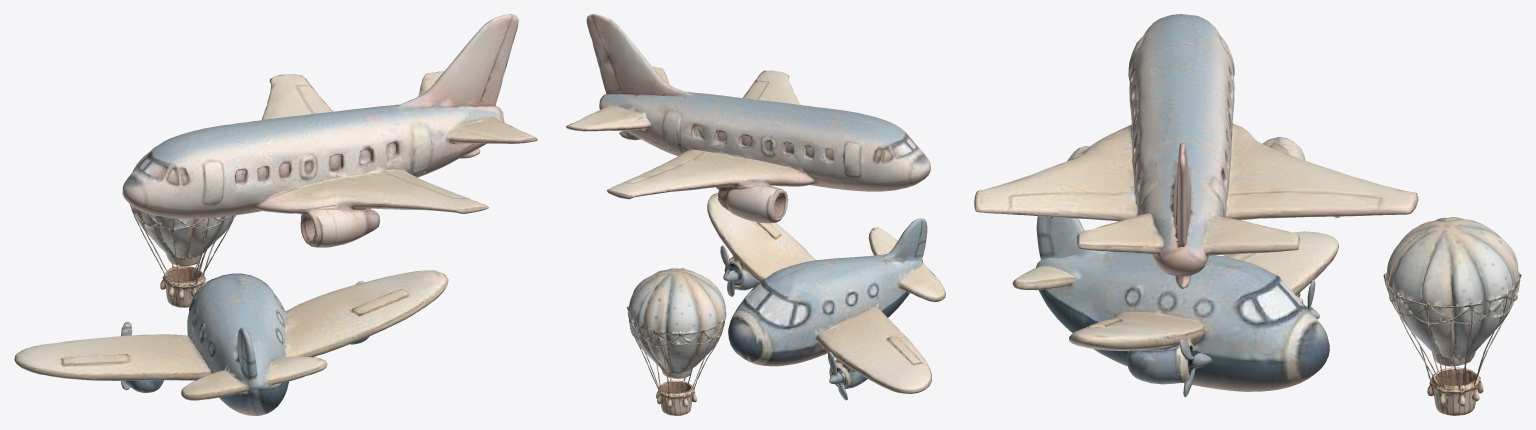
3 renders of one model, left to right at view 1: azimuth 30°, elevation 25°; view 2: azimuth 150°, elevation 25°; view 3: azimuth 270°, elevation 25°, orthographic. The views are drawn at different scales.
Visible parts, largest first — view 1: Mesh 2, Mesh 1, Mesh 3; view 2: Mesh 2, Mesh 1, Mesh 3; view 3: Mesh 2, Mesh 1, Mesh 3.
Boxes of the visible parts, x1,y1,x2,y2 form: Mesh 2: (122,14,537,247); Mesh 1: (14,270,448,415); Mesh 3: (130,152,236,307); Mesh 2: (566,14,930,223); Mesh 1: (707,192,945,400); Mesh 3: (627,268,726,415); Mesh 2: (974,14,1418,288); Mesh 1: (1012,216,1338,397); Mesh 3: (1383,217,1521,415).
Bounding box in the file's own units: 1.89 × 1.33 × 1.71.
3 materials, 3 textured.
